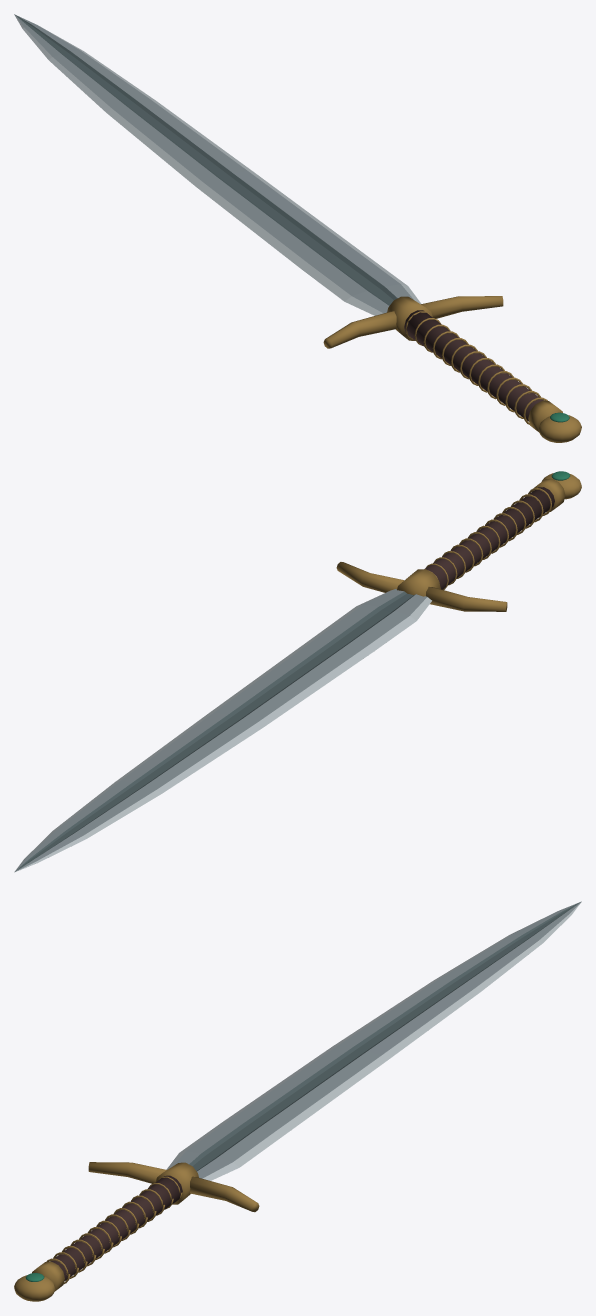
The model's file is wakecleaver.glb.
3 renders of one model, top to bottom at view 1: azimuth 30°, elevation 25°; view 2: azimuth 150°, elevation 25°; view 3: azimuth 330°, elevation 25°, orthographic. The views are drawn at different scales.
Visible parts, largest first — view 1: MV_wakecleaver; view 2: MV_wakecleaver; view 3: MV_wakecleaver.
Boxes of the visible parts, left/top/right/bottom form: MV_wakecleaver: left=14, top=14, right=581, bottom=442; MV_wakecleaver: left=14, top=471, right=581, bottom=872; MV_wakecleaver: left=14, top=901, right=581, bottom=1301.
Bounding box in the file's own units: 0.2957 × 0.054 × 1.64.
